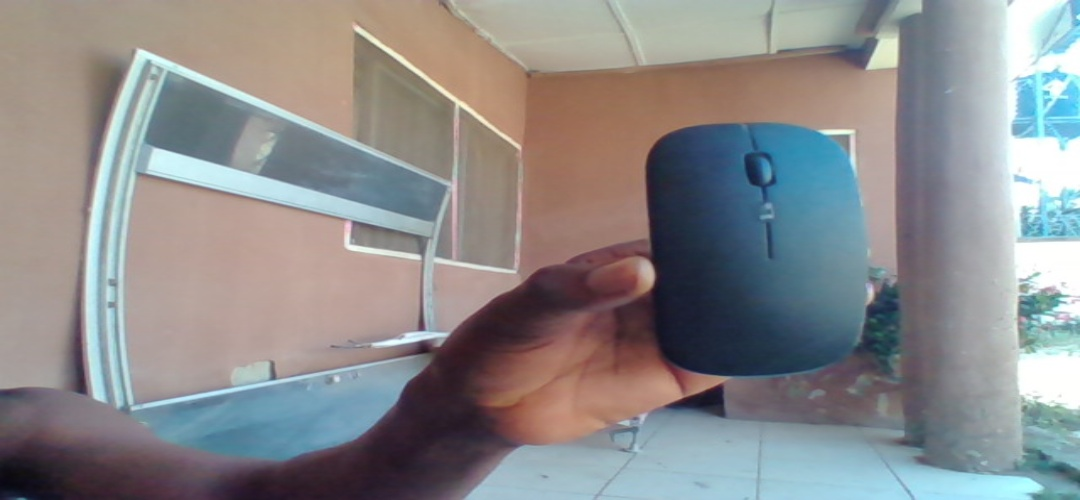wireless_mouse: (646, 120, 862, 383)
